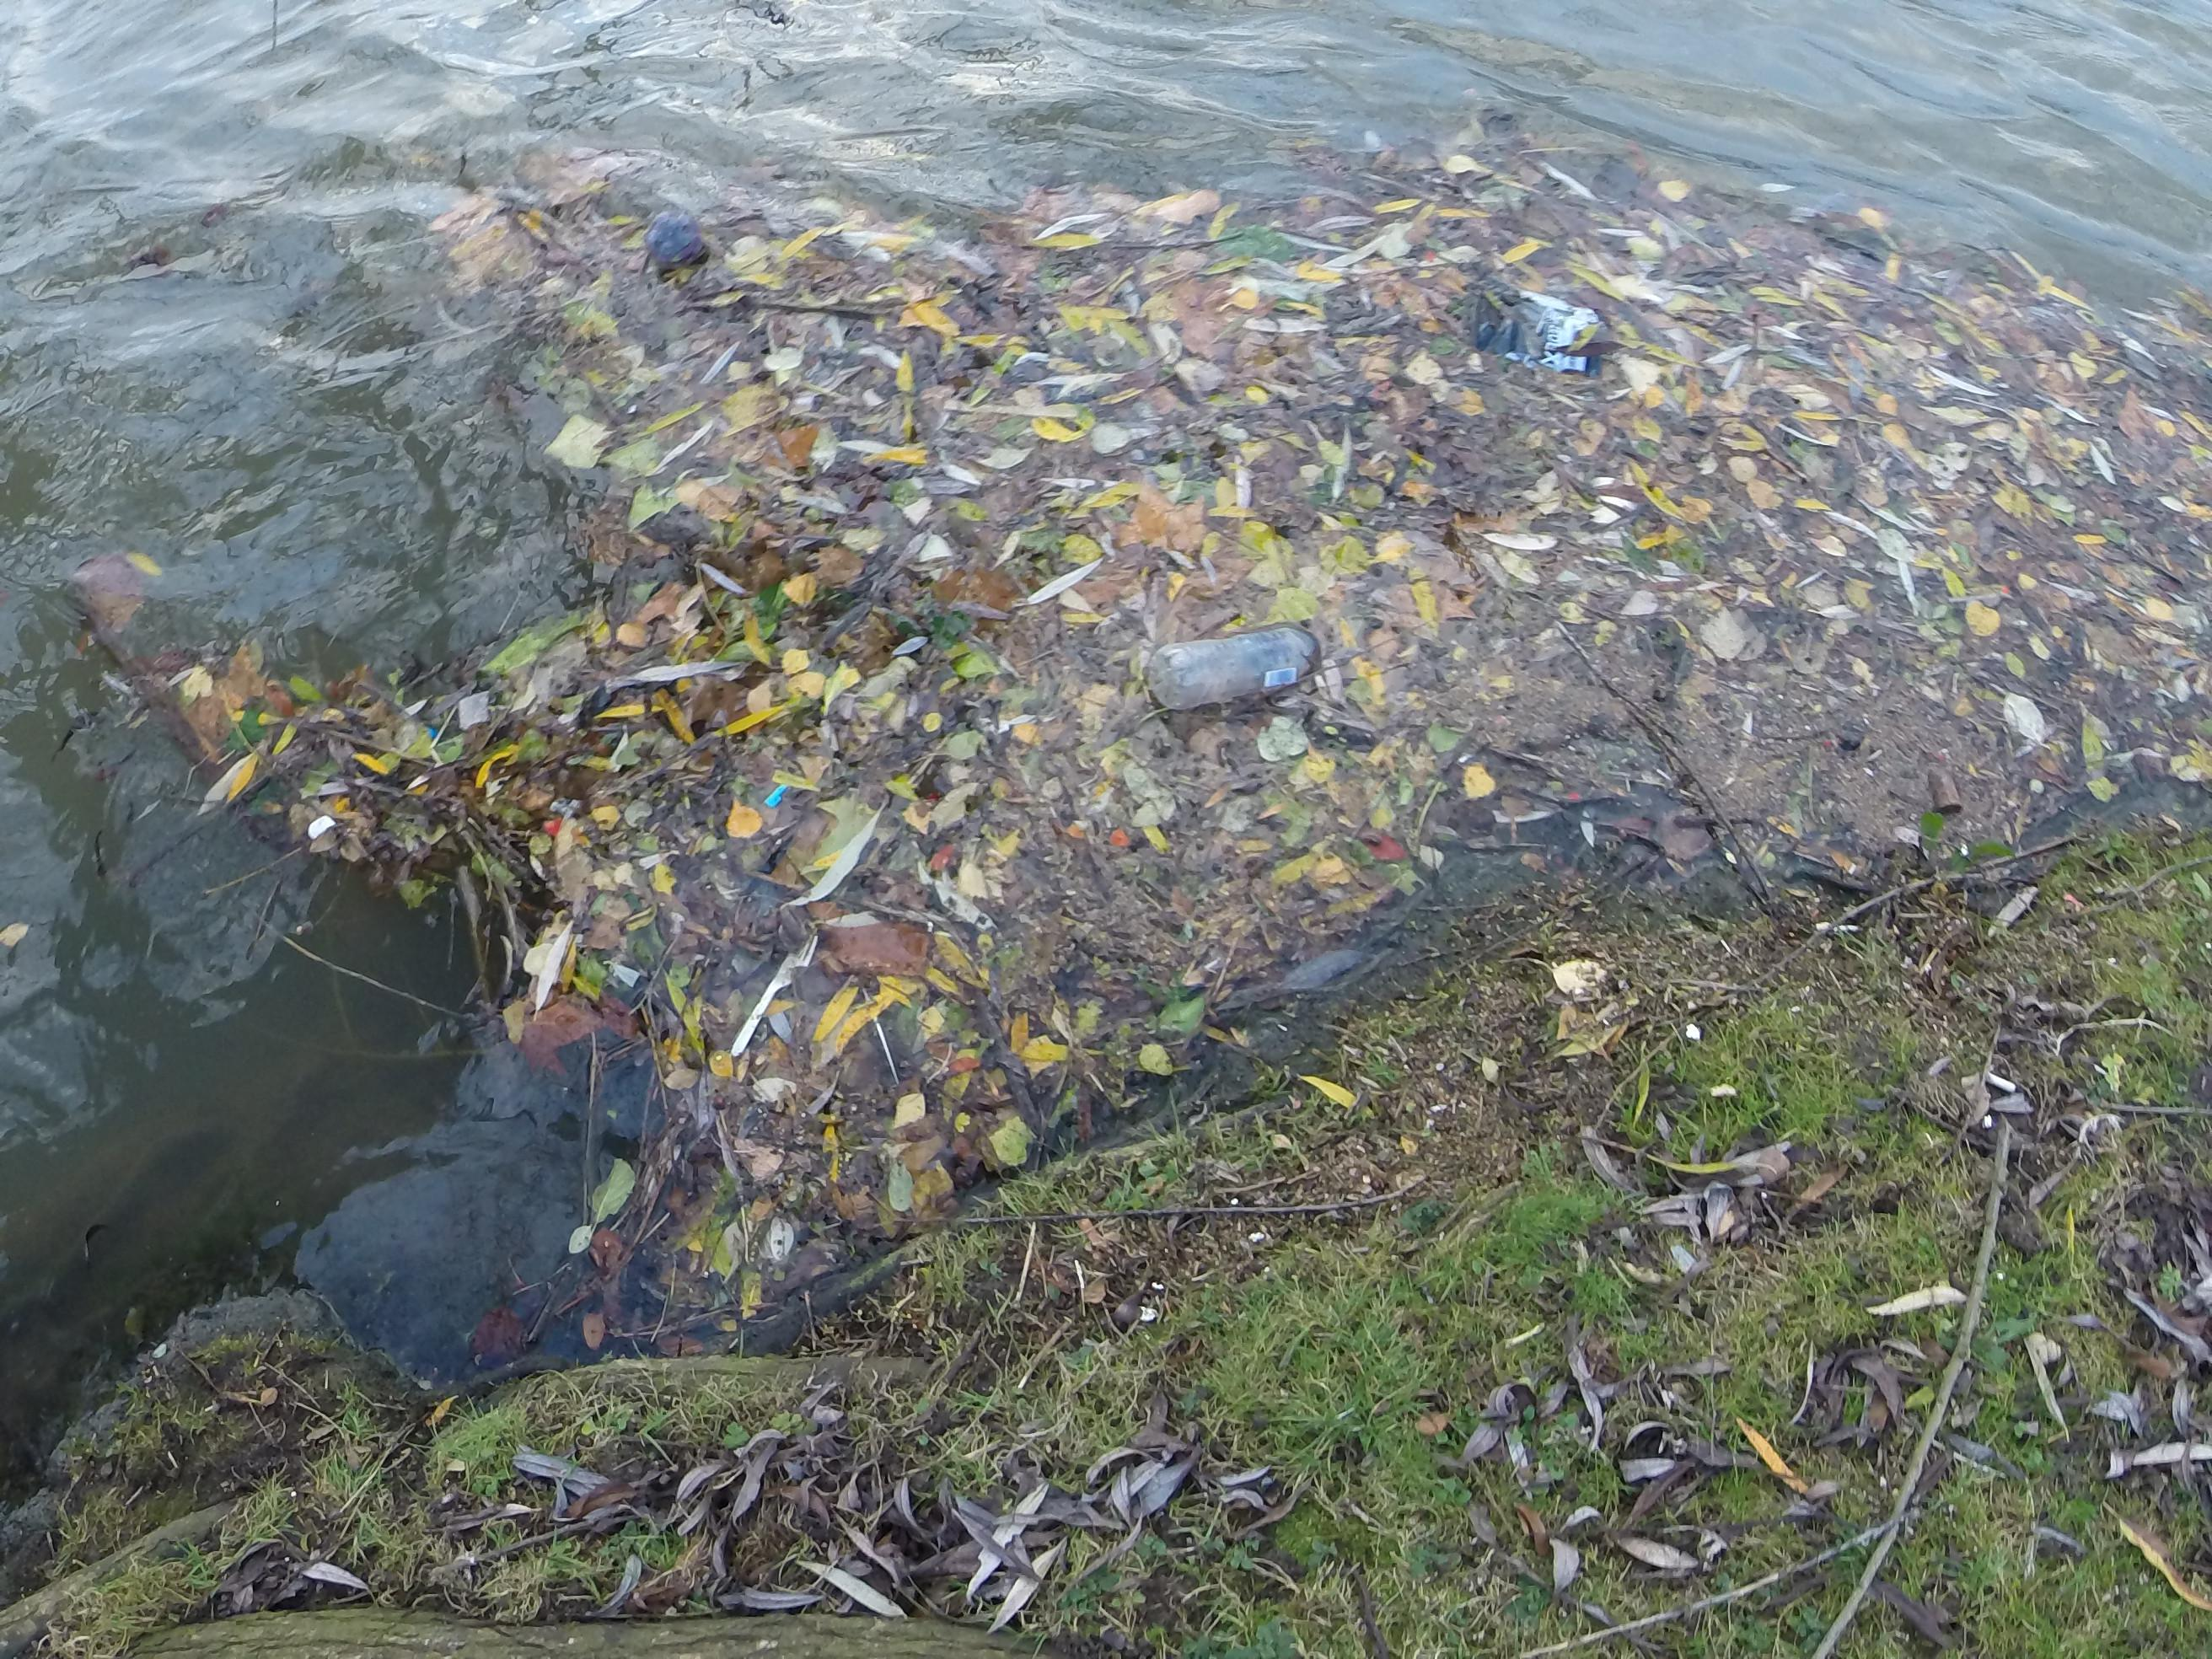Trash: (1470, 286, 1601, 378), (1141, 640, 1324, 697)
